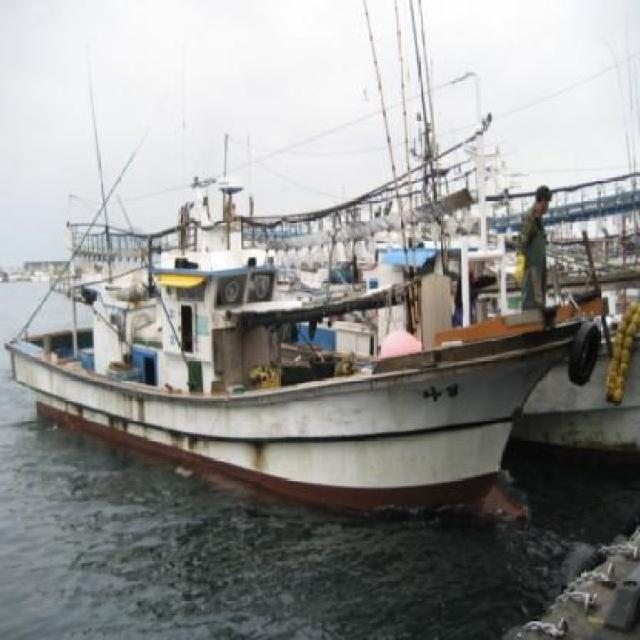fish-b: (1, 173, 619, 534)
